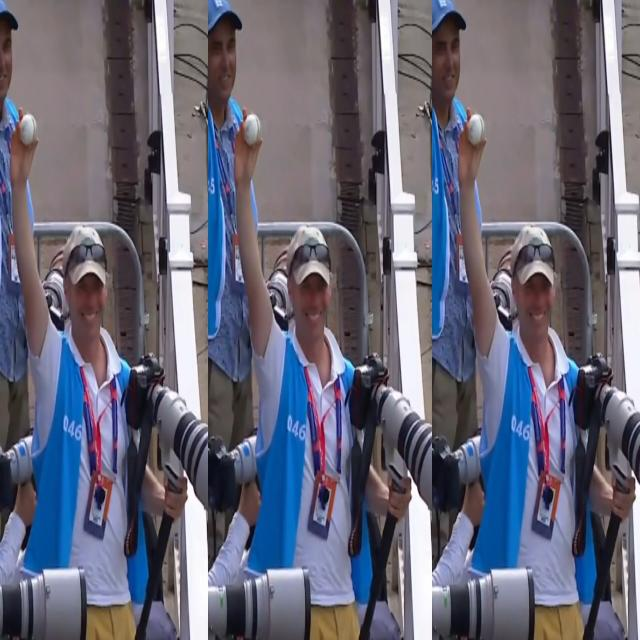ball: (462, 113, 492, 149), (17, 113, 42, 143), (241, 113, 263, 147)
